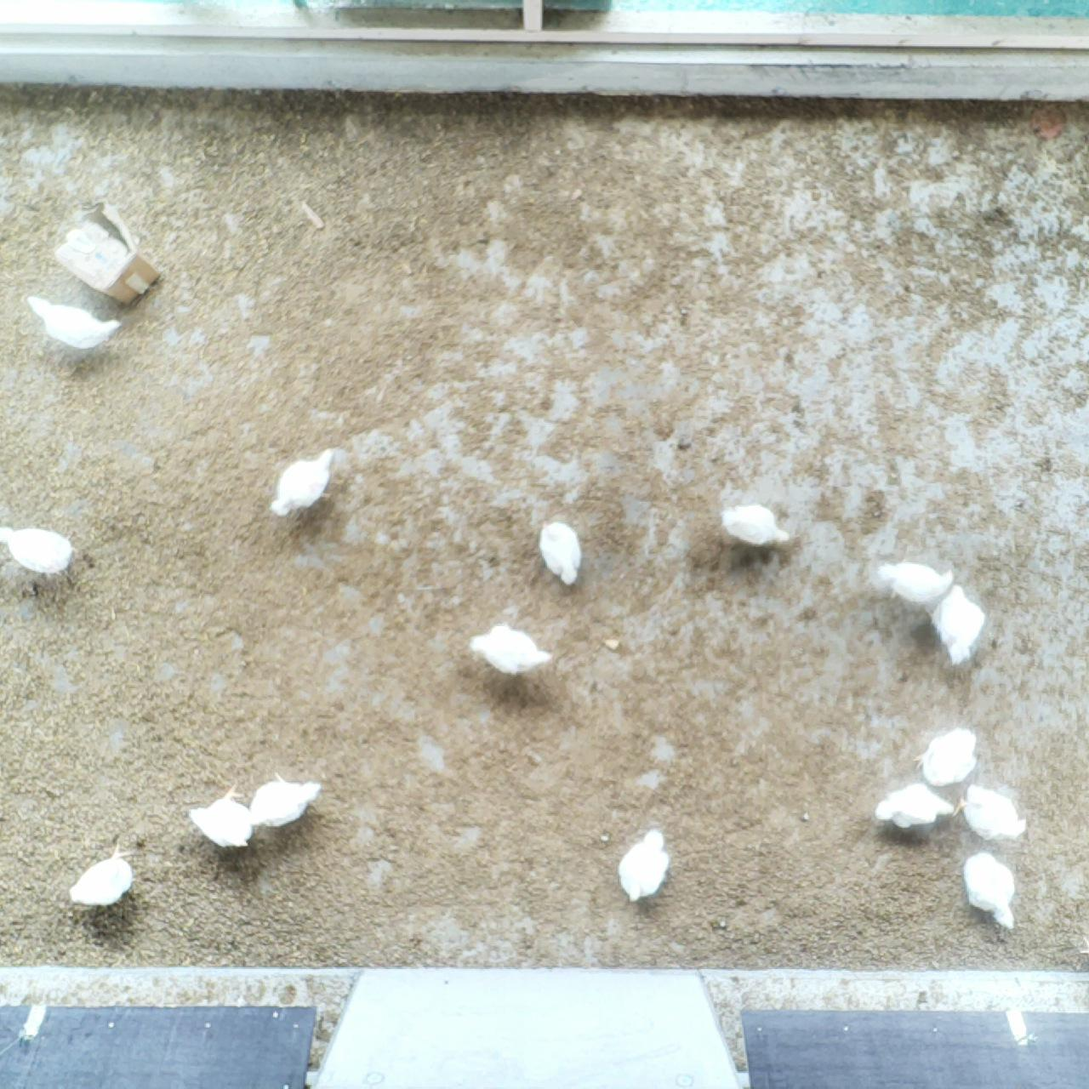chicken: (22, 291, 124, 350), (920, 581, 988, 667), (266, 446, 339, 524), (465, 620, 553, 683), (950, 778, 1032, 845), (185, 780, 258, 855), (959, 848, 1021, 934), (66, 840, 140, 911), (908, 725, 985, 790), (614, 824, 675, 906), (871, 777, 957, 835), (247, 769, 324, 831), (874, 554, 957, 608), (0, 522, 77, 576), (718, 500, 793, 550), (536, 517, 587, 589)
